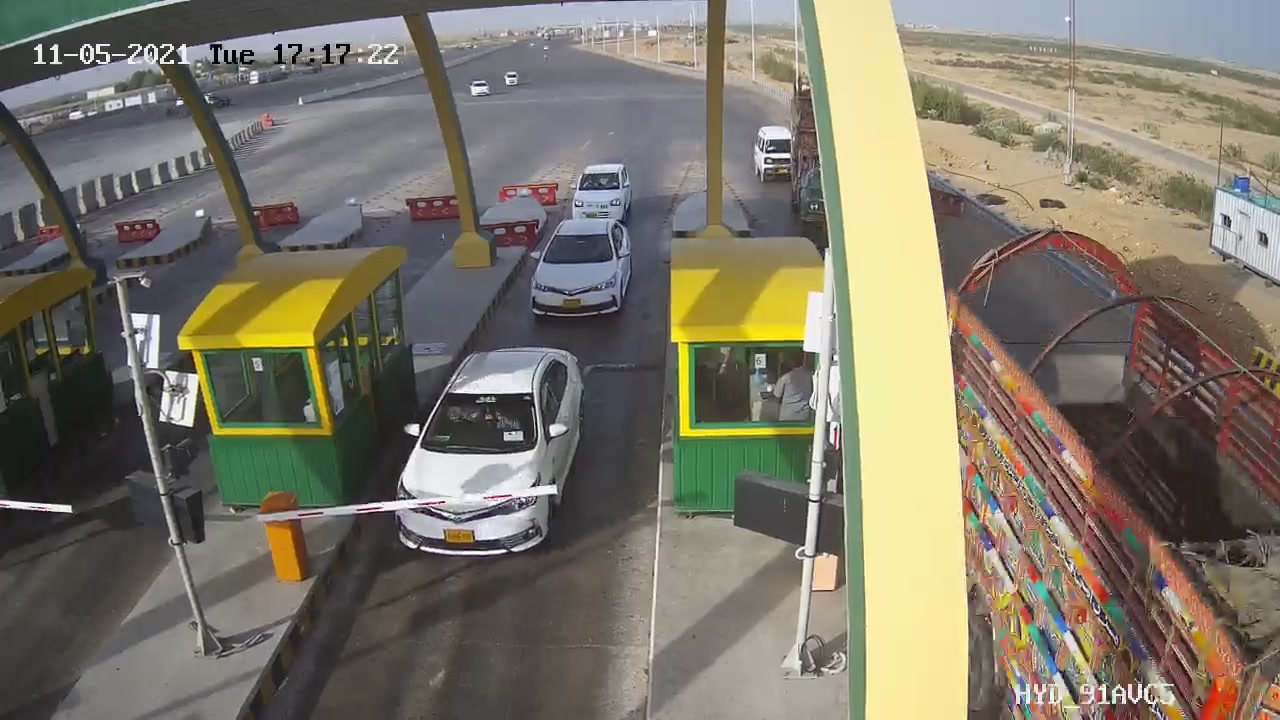F1: (379, 333, 603, 575), (508, 207, 647, 336)
